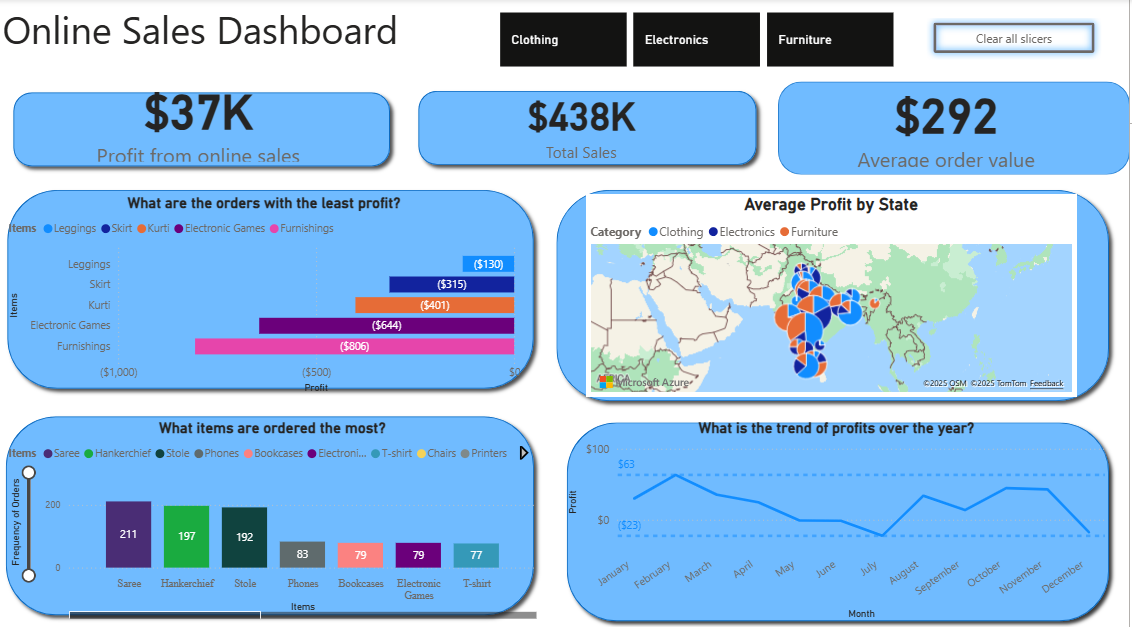

What the dashboard file says about the page in this screenshot:
{"tool":"powerbi","page":{"name":"Main Dashboard","canvas":[1280,720],"ordinal":6},"visuals":[{"type":"shape","box":[8,97.6,444.2,101.6],"z":0,"group":"g1"},{"type":"group","id":"g1","title":"Background","box":[0,93.6,1280.7,619.4],"z":0},{"type":"shape","box":[466.1,95.6,400.3,101.6],"z":1000,"group":"g1"},{"type":"card","fields":{"Values":["Sum(details.Profit)"]},"box":[0,82.1,452.6,111.6],"z":1000},{"type":"textbox","box":[0,0,529.8,87.6],"z":2000},{"type":"shape","box":[882.3,93.6,398.3,105.6],"z":2000,"group":"g1"},{"type":"card","fields":{"Values":["Sum(details.Amount)"]},"box":[465.3,90.5,389.5,98.9],"z":3000},{"type":"shape","box":[2,207.1,613.5,243],"z":3000,"group":"g1"},{"type":"card","fields":{"Values":["details.Average_order_value"]},"box":[882.1,82.1,383.2,113.7],"z":4000},{"type":"shape","box":[623.4,207.1,643.3,256.9],"z":4000,"group":"g1"},{"type":"barChart","title":"What are the orders with the least profit?","fields":{"Y":["Sum(details.Profit)"],"Category":["details.Sub-Category"],"Series":["details.Sub-Category"]},"box":[6.8,220.7,589.1,229.2],"z":5000},{"type":"shape","box":[0,464.1,615.4,243],"z":5000,"group":"g1"},{"type":"azureMap","title":"Average Profit by State","fields":{"Category":["orders.State"],"Size":["Sum(details.Profit)"],"Series":["details.Category"]},"box":[665.5,220.7,555.1,229.2],"z":6000},{"type":"shape","box":[635.4,470,631.4,243],"z":6000,"group":"g1"},{"type":"advancedSlicerVisual","fields":{"Values":["details.Category"]},"box":[543.7,9.7,496.6,71.4],"z":7000},{"type":"columnChart","title":"What items are ordered the most?","fields":{"Category":["details.Sub-Category"],"Y":["CountNonNull(details.Order ID)"],"Series":["details.Sub-Category"]},"box":[6.8,475.3,607.7,230.9],"z":8000},{"type":"actionButton","box":[1050.1,17.9,198,50.3],"z":9000},{"type":"lineChart","title":"What is the trend of profits over the year?","fields":{"Y":["Avg(details.Profit)"],"Category":["orders.Order Date.Variation.Date Hierarchy.Month"]},"box":[640,475.3,617.9,230.9],"z":10000}]}

Visuals, with their boxes in screenshot pixels (x1, y1, x2, y2), scaled from the page's 1280x720 canvas onto the 1132x627 screenshot:
shape: l=7, t=85, r=400, b=173
"Background" group: l=0, t=82, r=1131, b=621
shape: l=412, t=83, r=766, b=172
card - Sum(details.Profit): l=0, t=71, r=400, b=169
textbox: l=0, t=0, r=469, b=76
shape: l=780, t=82, r=1131, b=173
card - Sum(details.Amount): l=411, t=79, r=756, b=165
shape: l=2, t=180, r=544, b=392
card - details.Average_order_value: l=780, t=71, r=1119, b=171
shape: l=551, t=180, r=1120, b=404
"What are the orders with the least profit?" barChart: l=6, t=192, r=527, b=392
shape: l=0, t=404, r=544, b=616
"Average Profit by State" azureMap: l=589, t=192, r=1079, b=392
shape: l=562, t=409, r=1120, b=621
advancedSlicerVisual - details.Category: l=481, t=8, r=920, b=71
"What items are ordered the most?" columnChart: l=6, t=414, r=543, b=615
actionButton: l=929, t=16, r=1104, b=59
"What is the trend of profits over the year?" lineChart: l=566, t=414, r=1112, b=615
